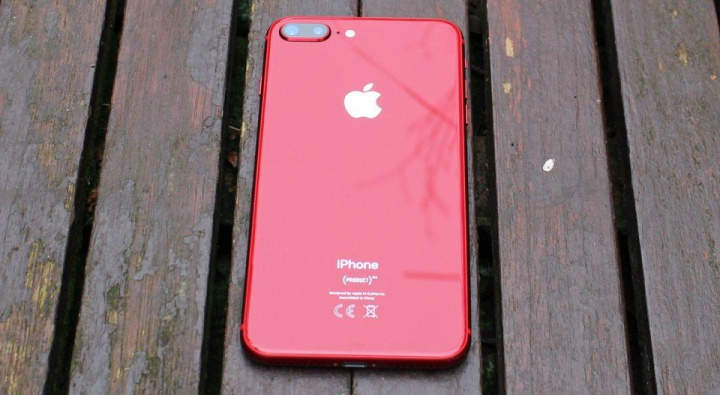apple: (336, 69, 403, 137)
